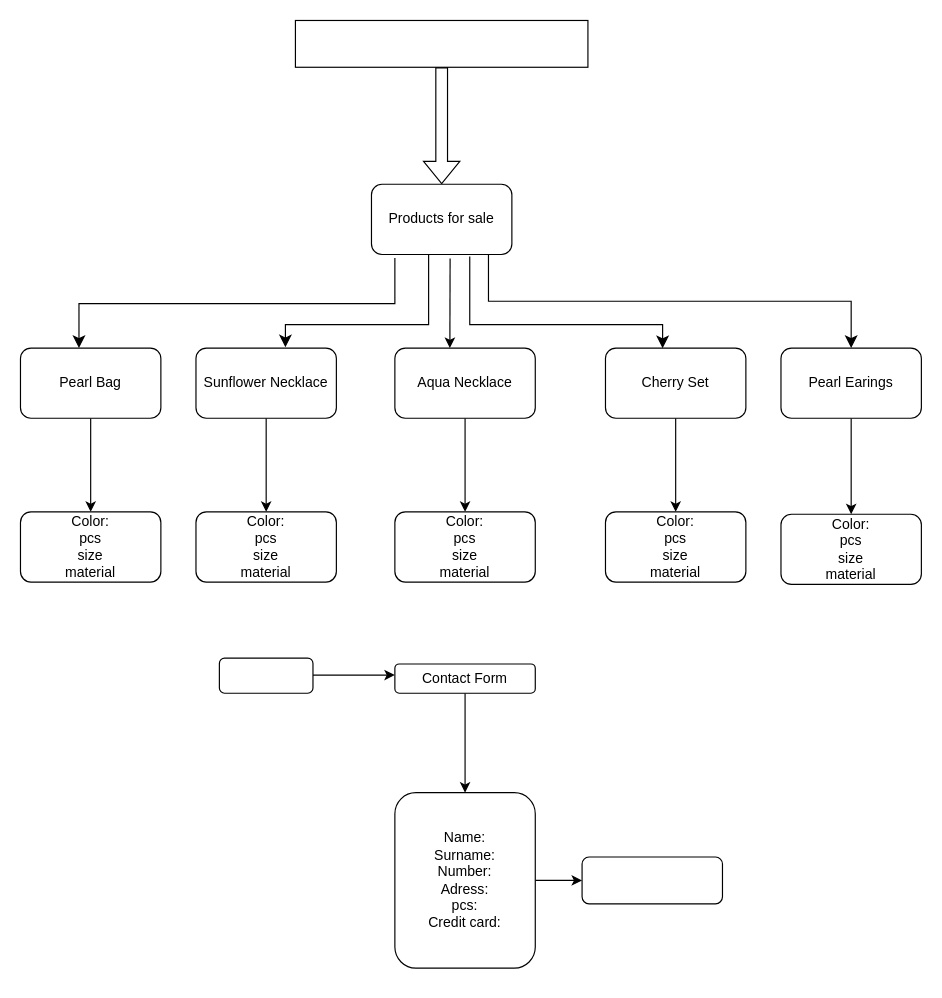
This 942x998 diagram has some shape labels left out. Here are the shapes that lost their labels. From the top down, the box of each, then its label:
(294, 19, 588, 67): Home Page
(218, 657, 313, 693): Buy
(581, 856, 722, 904): SUBMIT
